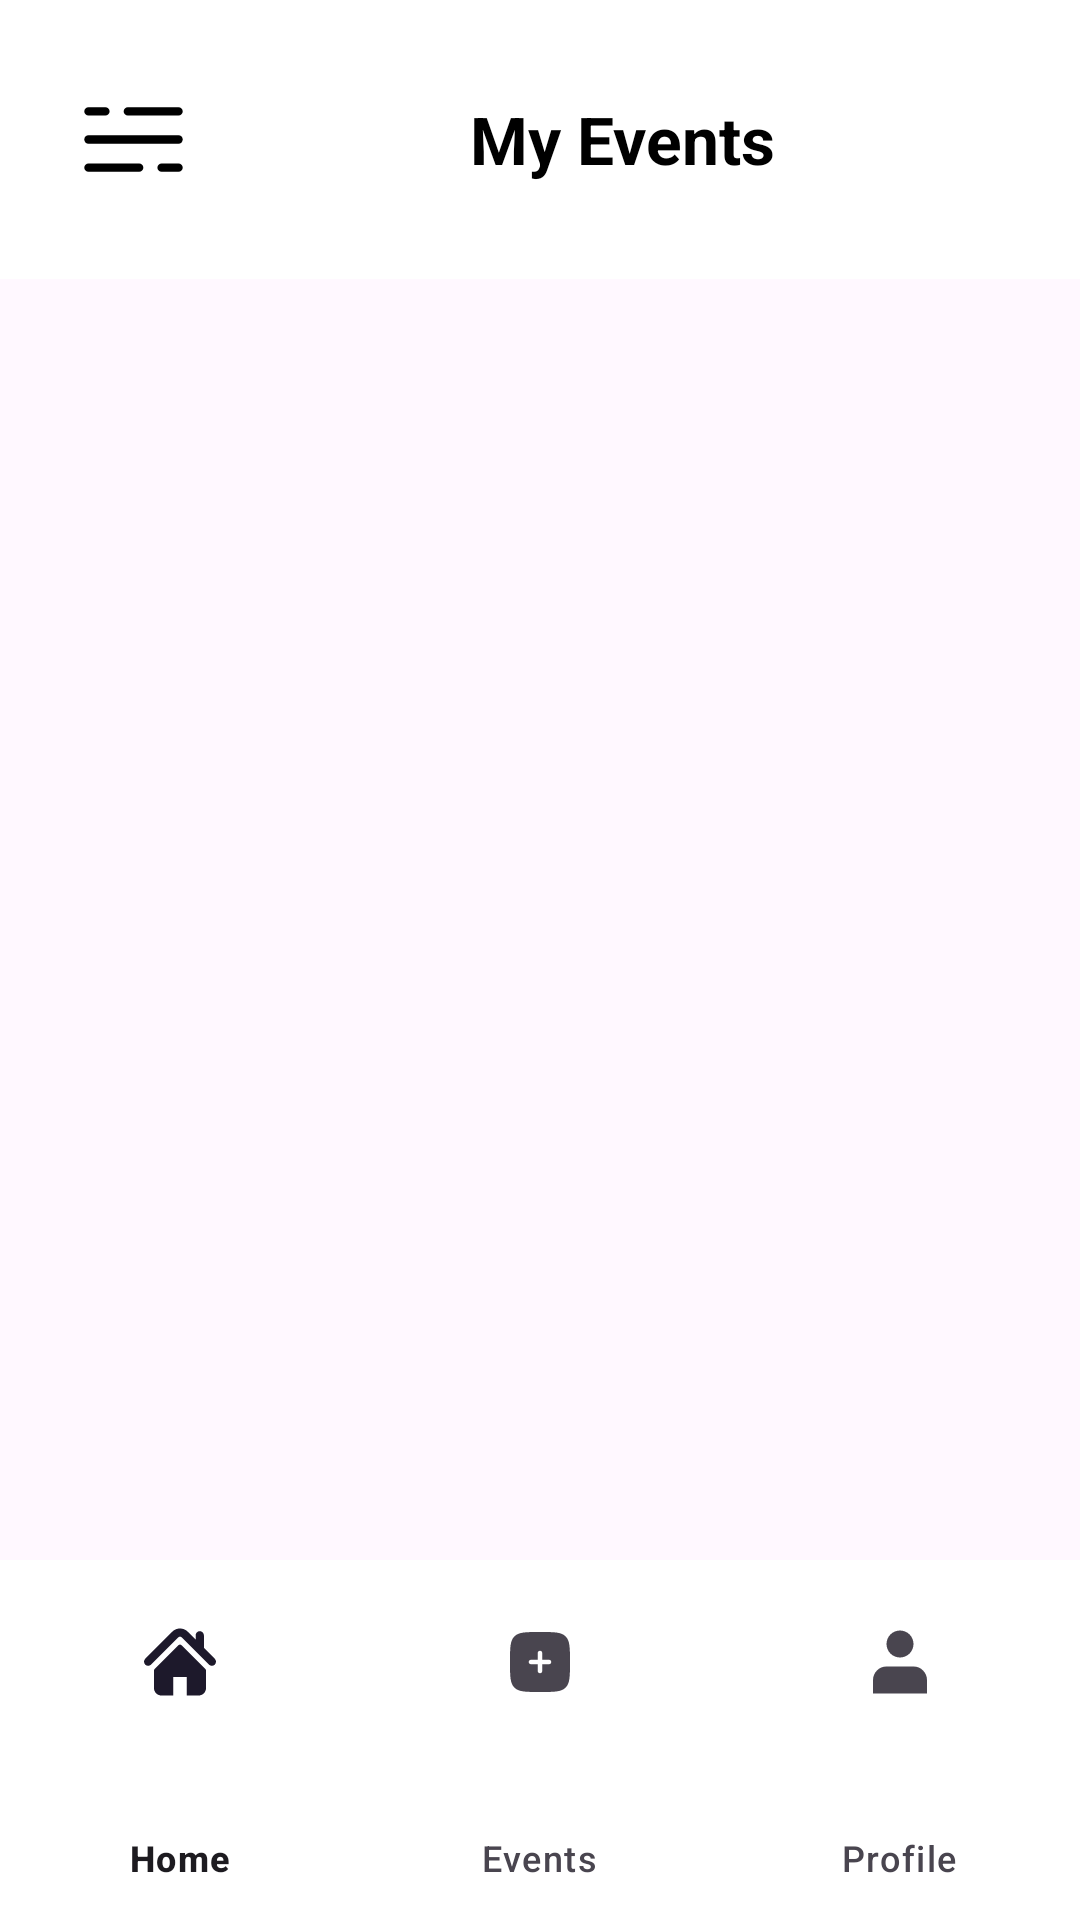

Named icons in this screenshot (1080w x 1920h) and their centers, point (x, y):
menu: point (133, 139)
